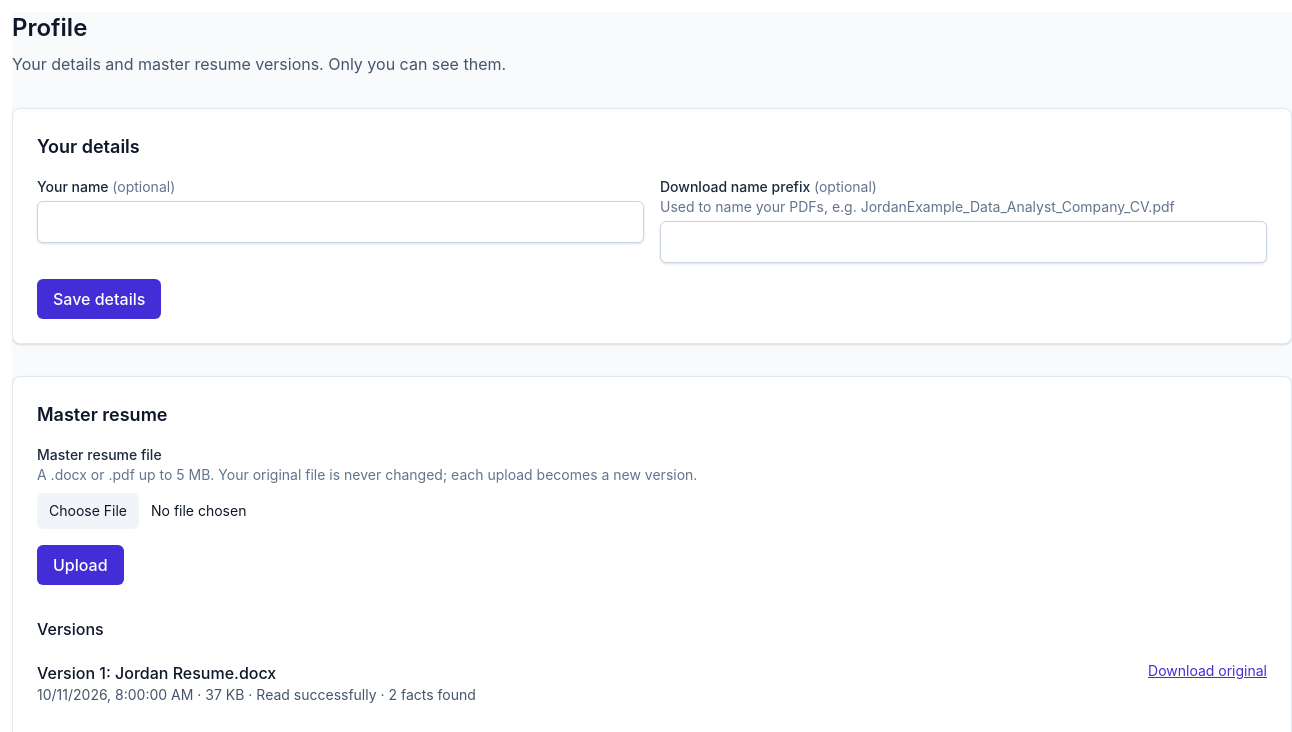
Test: ProfilePage › shows versions and saves details with the version it loaded
The width and height of the screenshot is (1292, 732).
Expected: the text "Version 1: Jordan Resume.docx" is shown, [37,663,276,683]
Type "JordanExample" into the field labelled "Download name prefix (optional)" at (964,242), box [660,221,1267,263]
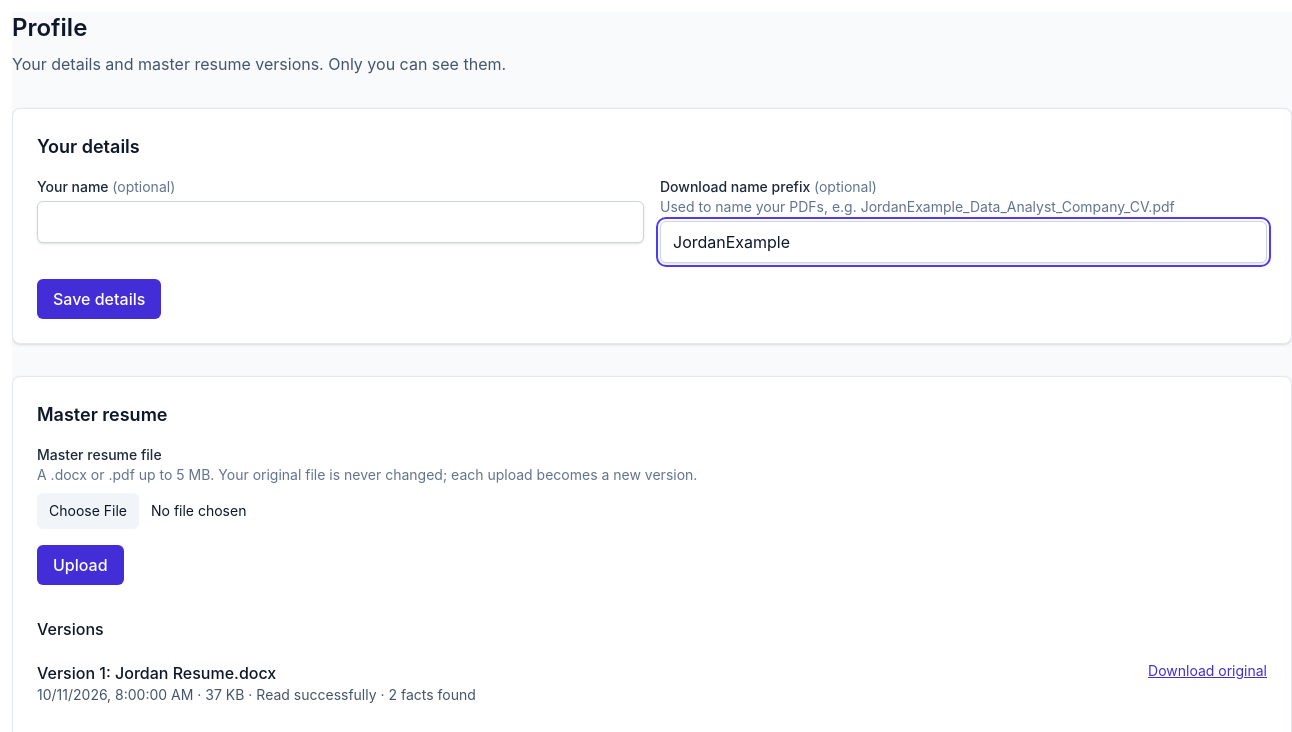
Click the button "Save details" at (99,299), box [37,279,161,319]
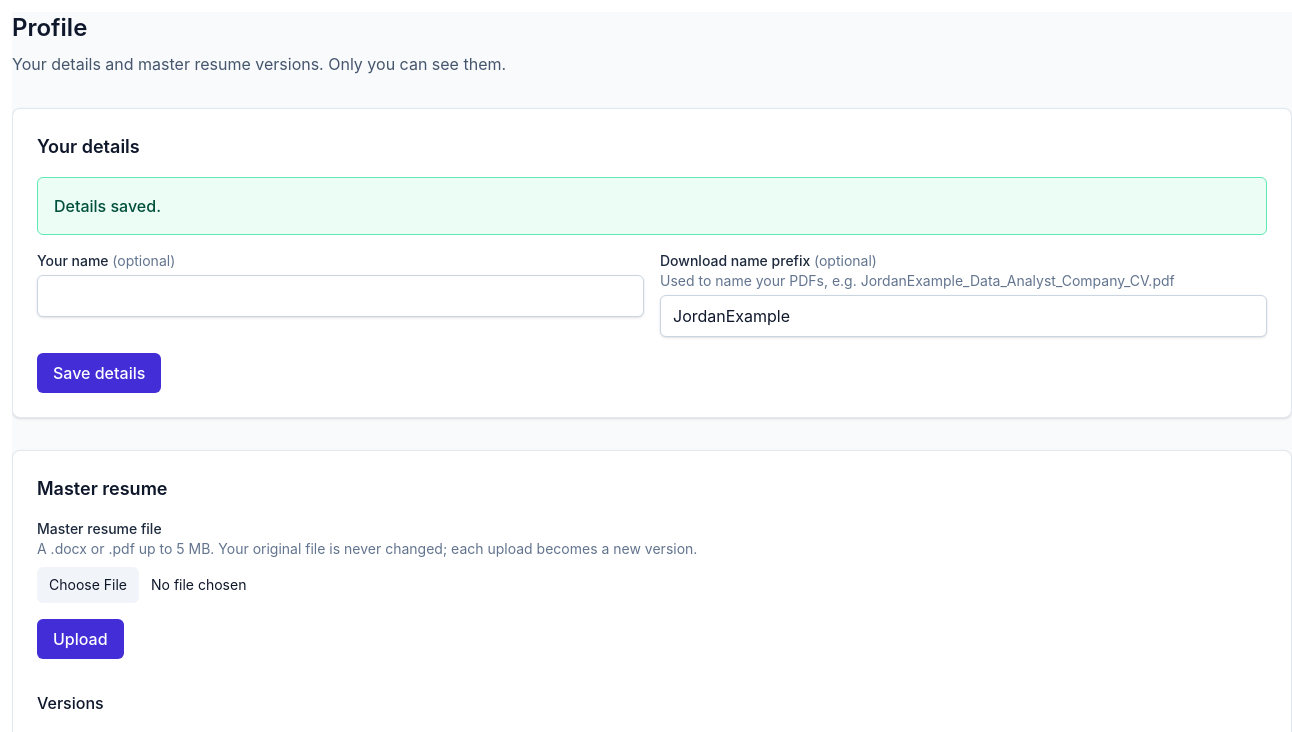
Now the text "Details saved." is shown, box [54,196,161,216]
